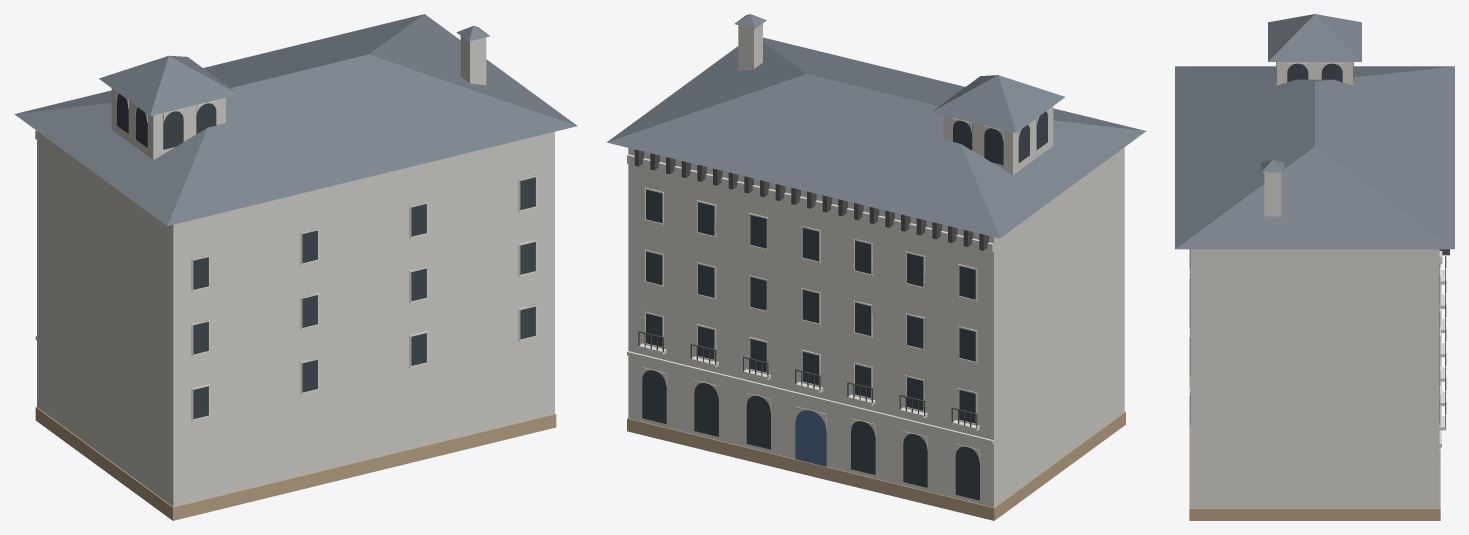
File: ca_classical4.glb
3 renders of one model, left to right at view 1: azimuth 30°, elevation 25°; view 2: azimuth 150°, elevation 25°; view 3: azimuth 270°, elevation 25°, orthographic. The views are drawn at different scales.
Parts seen in each view (by area): view 1: ca_classical4; view 2: ca_classical4; view 3: ca_classical4.
Boxes of the visible parts, left/top/right/bottom form: ca_classical4: left=14, top=14, right=577, bottom=520; ca_classical4: left=606, top=14, right=1146, bottom=520; ca_classical4: left=1175, top=14, right=1454, bottom=520.
Size of the model in its own units: 22.6 by 21 by 14.6.
